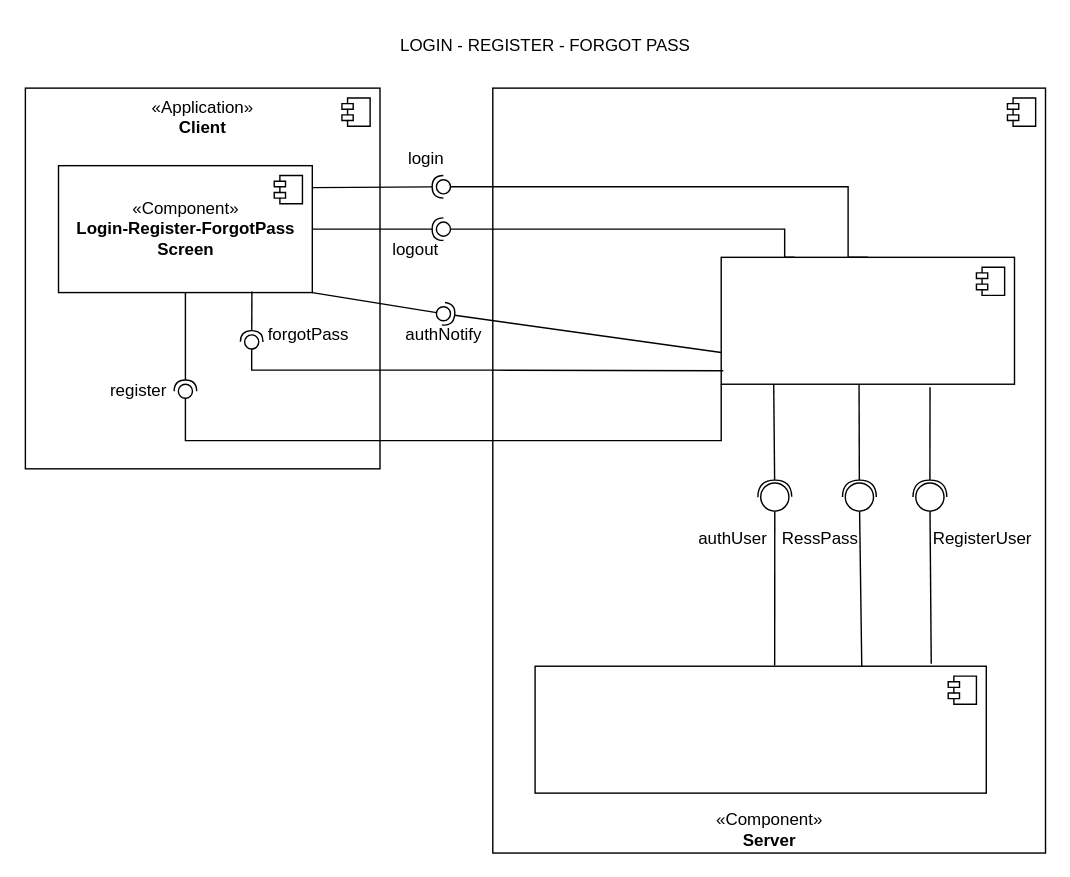
This 1070x877 diagram has some shape labels left out. Each missing label, with the centre of its shape:
"«Component» userController" belongs at [867,320].
"«Component» UserModel" belongs at [760,729].
